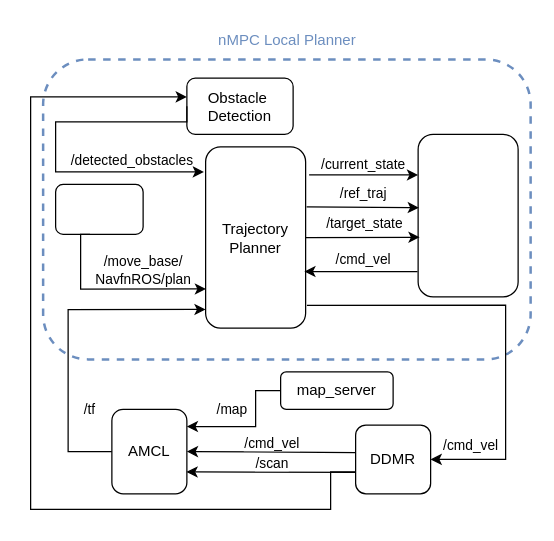
Some shapes in this 554 by 541 pixel diagram are drawn without their labels. Each missing label, with the centre of its shape:
MoveBase Planner: (x=98, y=208)
nMPC: (x=467, y=215)
